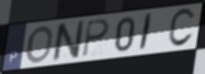0: (113, 16, 138, 54)
C: (166, 7, 196, 50)
I: (137, 12, 154, 53)
N: (51, 19, 86, 64)
O: (24, 25, 55, 65)
P: (81, 18, 111, 59)
